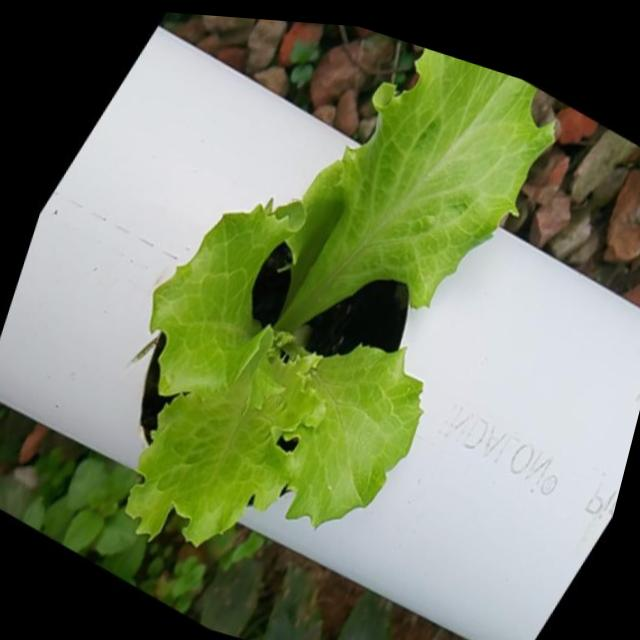Baby: (120, 50, 549, 557)
